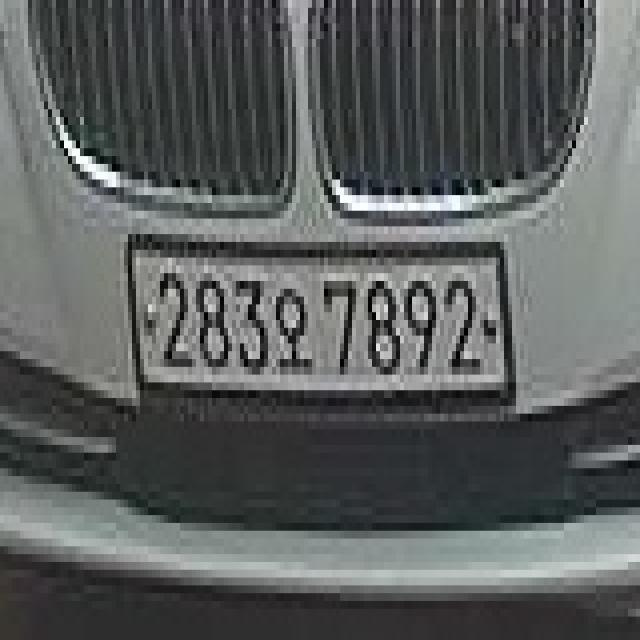plat: (127, 233, 513, 409)
